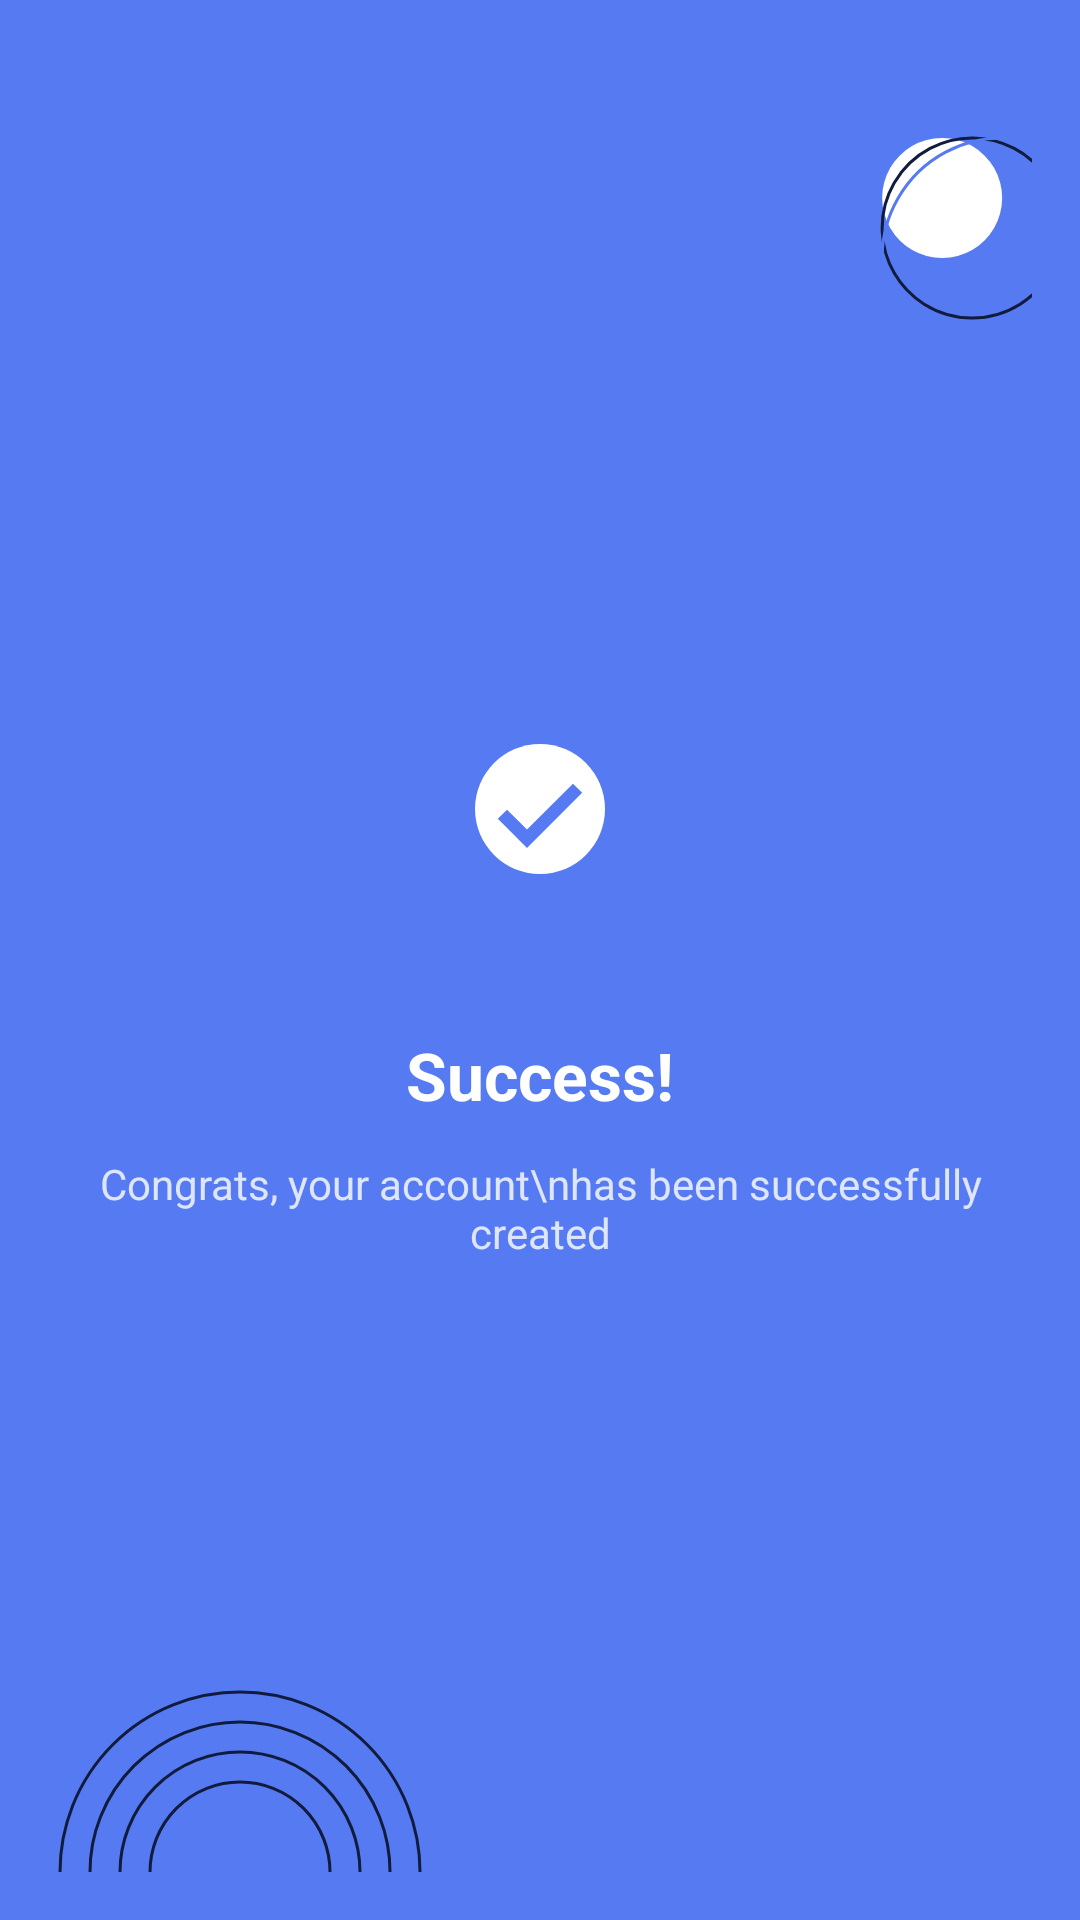

Named icons in this screenshot (1080px x 1920px) and their centers, (x,y):
check circle: (540,809)
